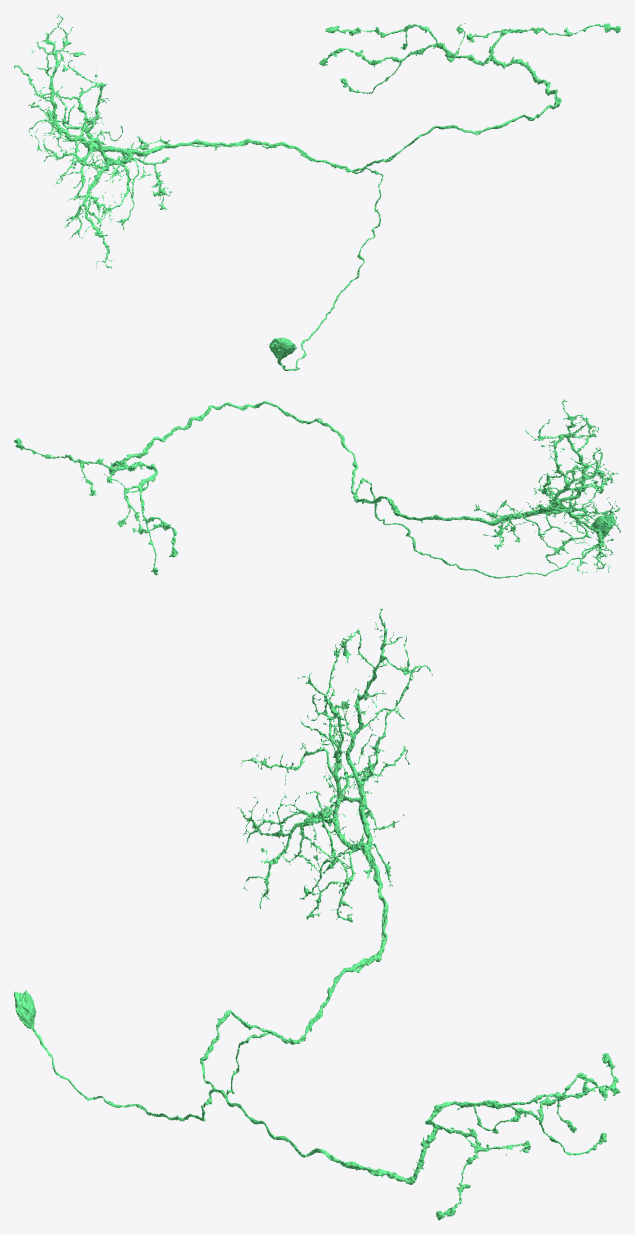
File: VFB_00105fis.glb
3 views of the same model, one above another, from view 1: azimuth 30°, elevation 25°; view 2: azimuth 150°, elevation 25°; view 3: azimuth 270°, elevation 25° (orthographic). The views are drawn at different scales.
Parts seen in each view (by area): view 1: VFB_00105fis; view 2: VFB_00105fis; view 3: VFB_00105fis.
Part boxes in pixels (x1,y1,x2,y2): VFB_00105fis: (14, 14, 620, 370); VFB_00105fis: (14, 399, 620, 578); VFB_00105fis: (14, 608, 620, 1220).
Bounding box in the file's own units: 0.1078 × 0.0509 × 0.0686.
